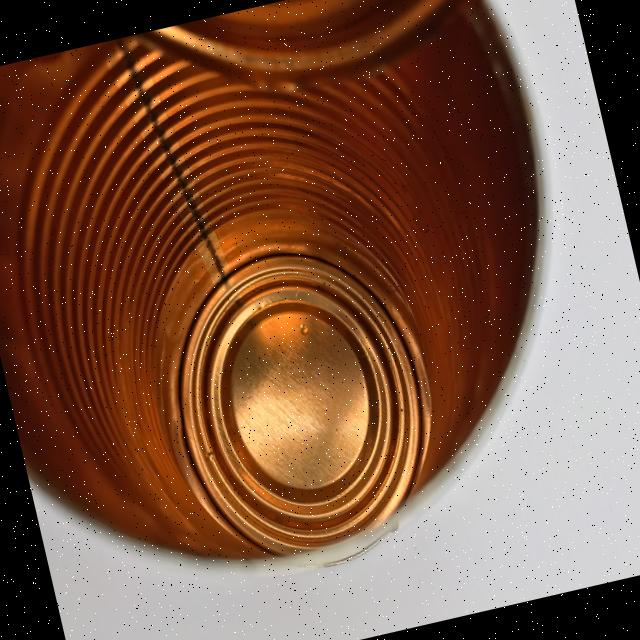metal: (0, 0, 637, 622)
